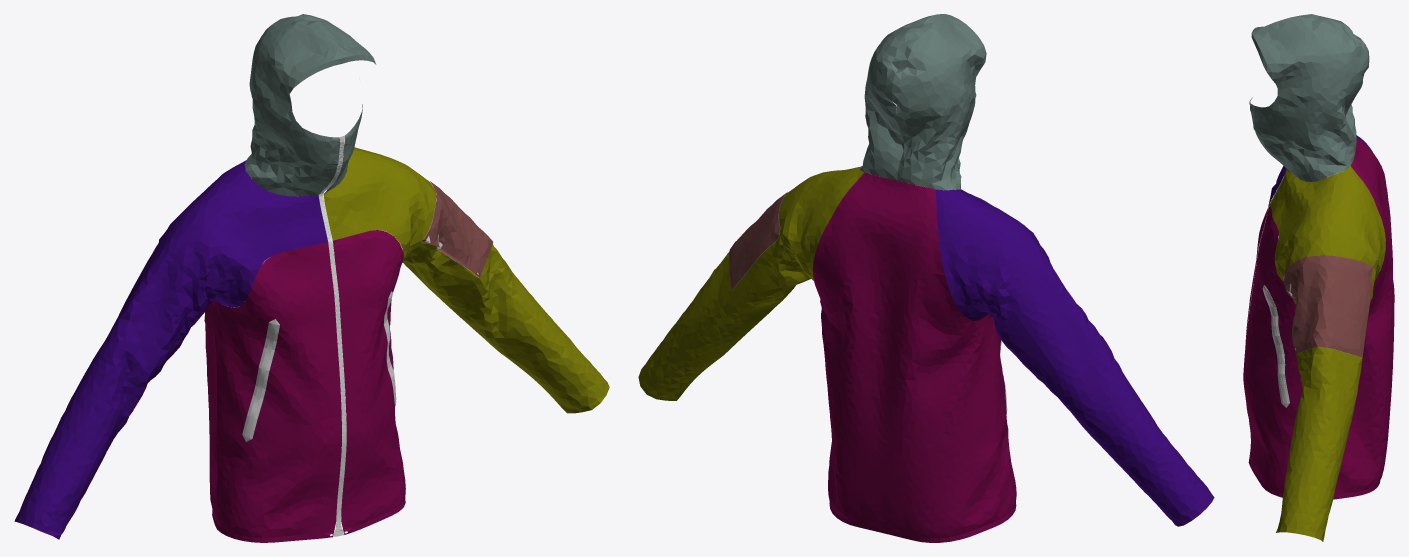
File: Jacket.glb
The picture shows the model from 3 angles, left to right: view 1: azimuth 30°, elevation 25°; view 2: azimuth 150°, elevation 25°; view 3: azimuth 270°, elevation 25°; orthographic projection. The views are drawn at different scales.
Parts seen in each view (by area): view 1: geometry_0_Color_(0.4117647409439087, 0.6196078658103943, 0.; view 2: geometry_0_Color_(0.4117647409439087, 0.6196078658103943, 0.; view 3: geometry_0_Color_(0.4117647409439087, 0.6196078658103943, 0..
Part boxes in pixels (x1,y1,x2,y2): geometry_0_Color_(0.4117647409439087, 0.6196078658103943, 0.: [14, 14, 609, 542]; geometry_0_Color_(0.4117647409439087, 0.6196078658103943, 0.: [638, 14, 1214, 542]; geometry_0_Color_(0.4117647409439087, 0.6196078658103943, 0.: [1243, 14, 1394, 541].
Size of the model in its own units: 2 by 1.63 by 0.4954.
